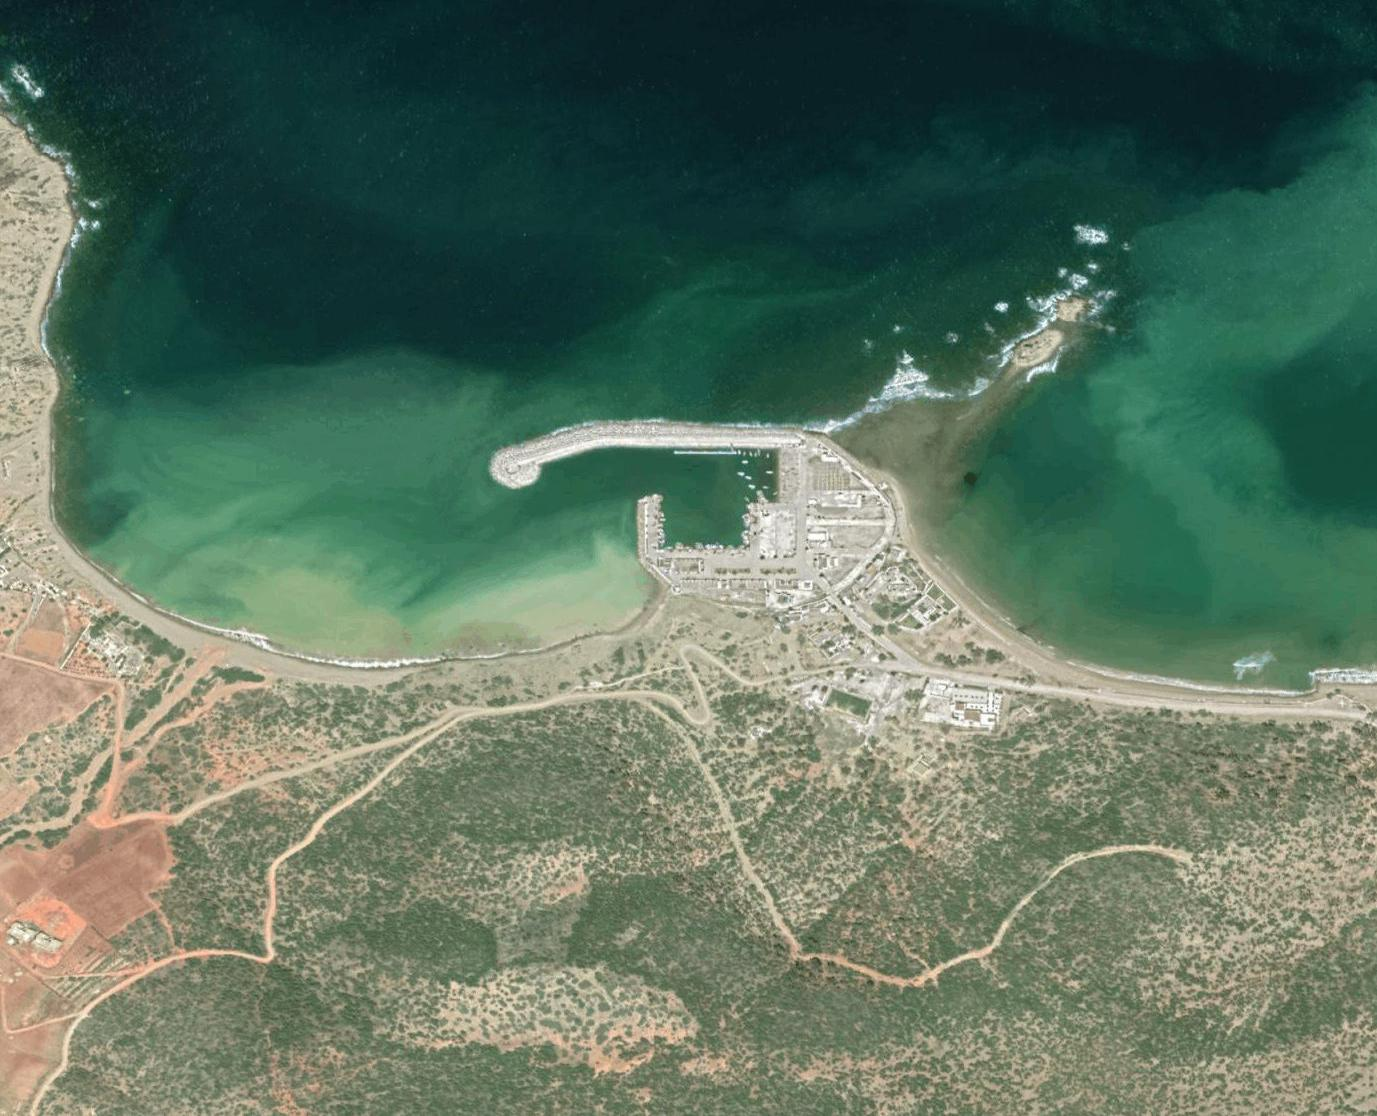harbor: (480, 387, 972, 635)
